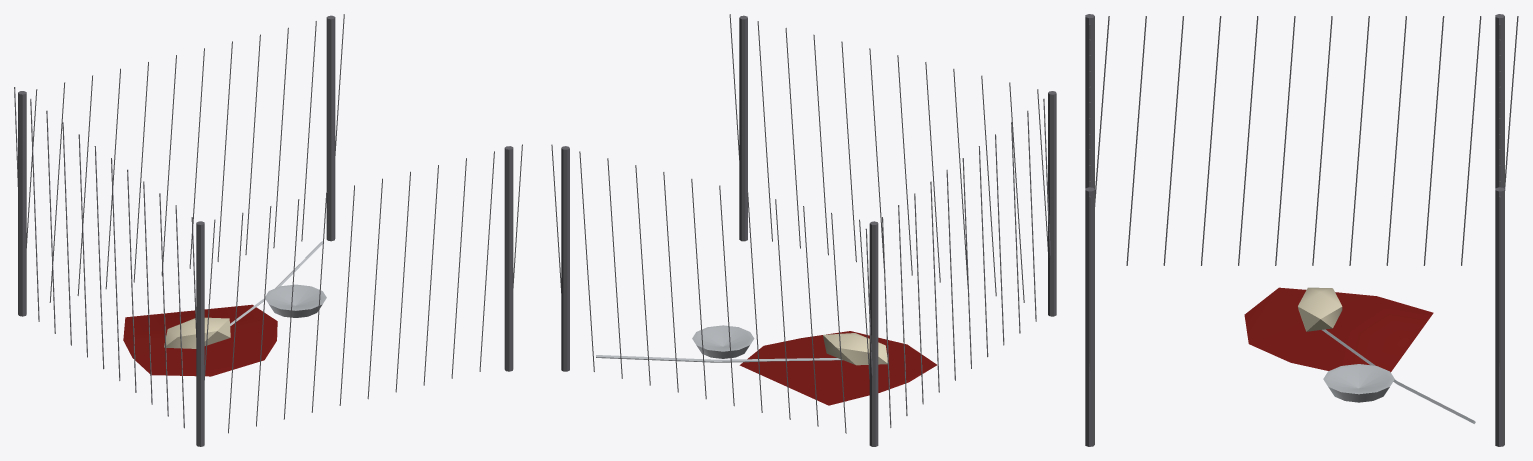
File: kennel.glb
3 views of the same model, side by side, from view 1: azimuth 30°, elevation 25°; view 2: azimuth 150°, elevation 25°; view 3: azimuth 270°, elevation 25° (orthographic). The views are drawn at different scales.
Parts seen in each view (by area): view 1: kennel; view 2: kennel; view 3: kennel.
Boxes of the visible parts, left/top/right/bottom form: kennel: left=14, top=14, right=522, bottom=446; kennel: left=551, top=14, right=1056, bottom=446; kennel: left=1085, top=14, right=1518, bottom=446.
Bounding box in the file's own units: 3.38 × 2.21 × 3.38.
